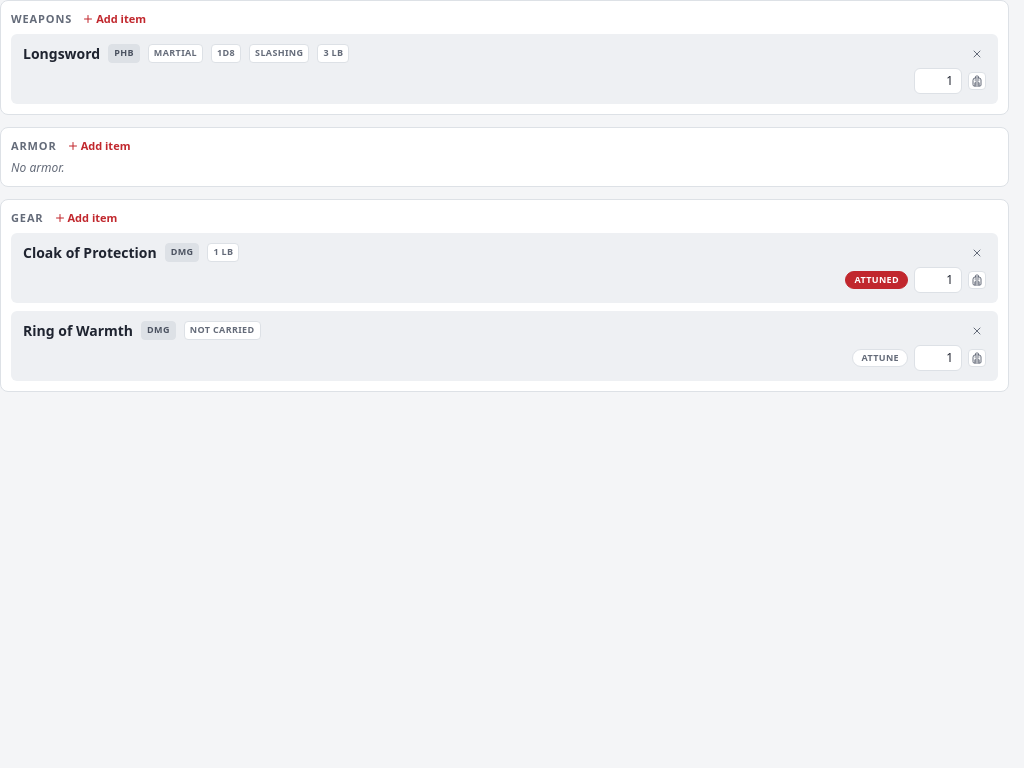
Test: ItemList › offers no Add anyway where the server refuses the override too
Check: the button "Longsword" is shown, box [23,44,100,64]
Click the button with aria-label "Add item to Weapons" at (114, 19), box [78,7,150,32]
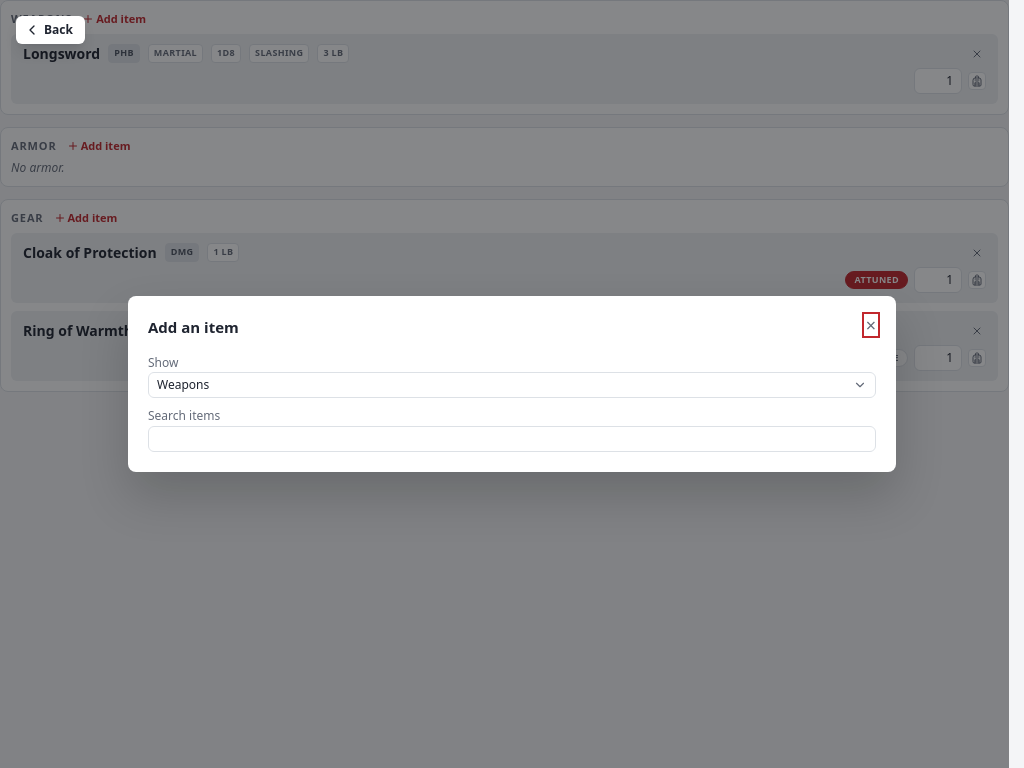
Type "+1" into the dropdown labelled "Search items" at (512, 439), box [148,426,876,452]
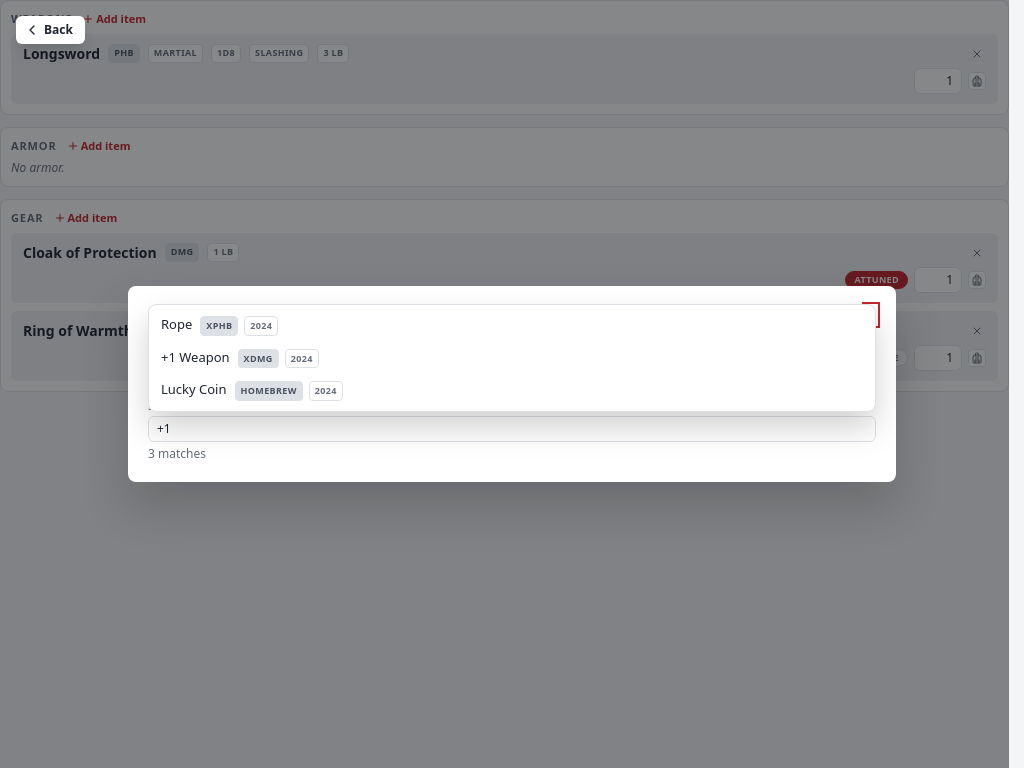
Click the option "+1 Weapon XDMG 2024" at (240, 358), box [161,348,319,368]
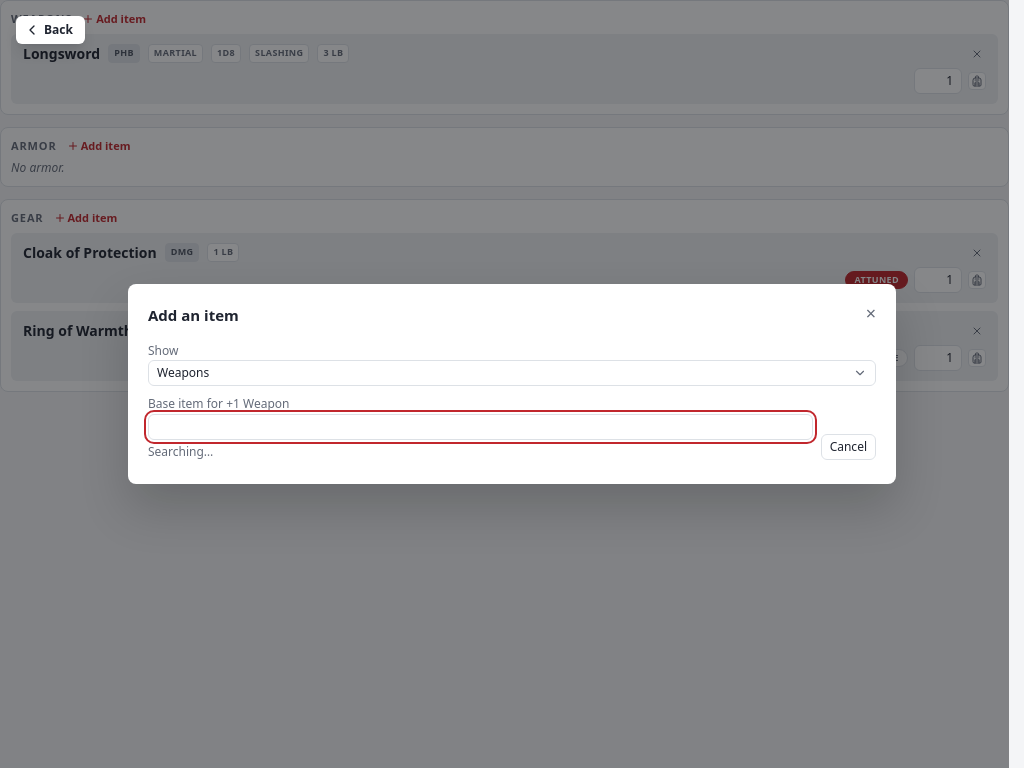
Type "dag" into the dropdown labelled "Base item for +1 Weapon" at (480, 427), box [148,414,813,440]
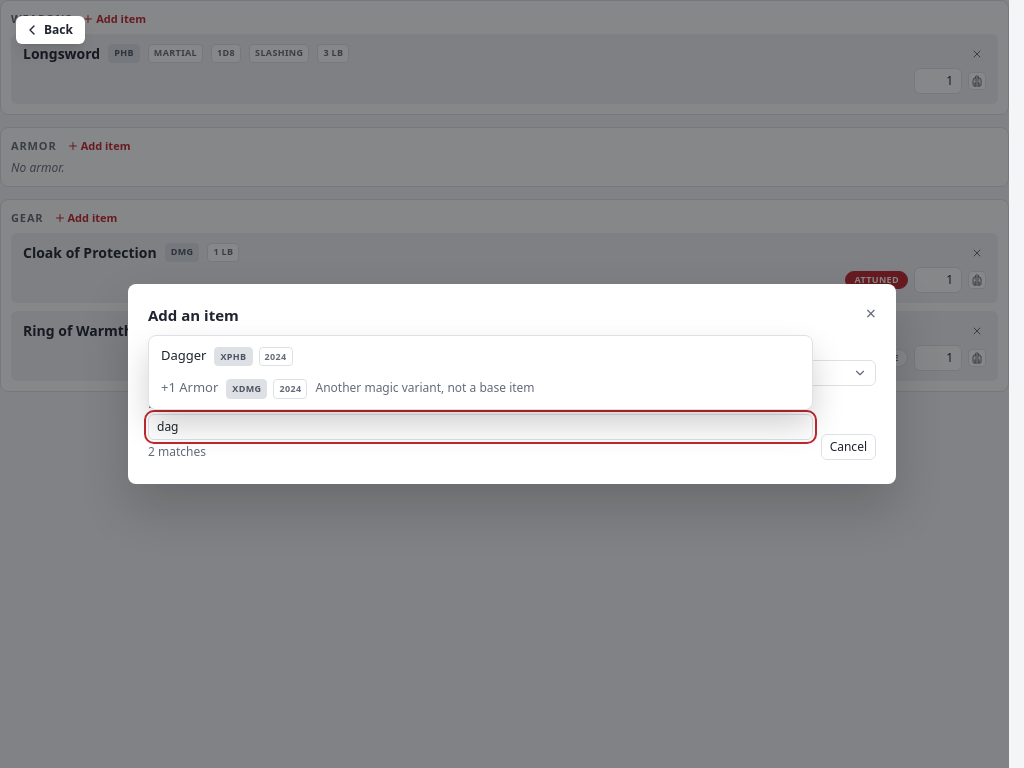
Click the option "Dagger XPHB 2024" at (227, 356), box [161,346,293,366]
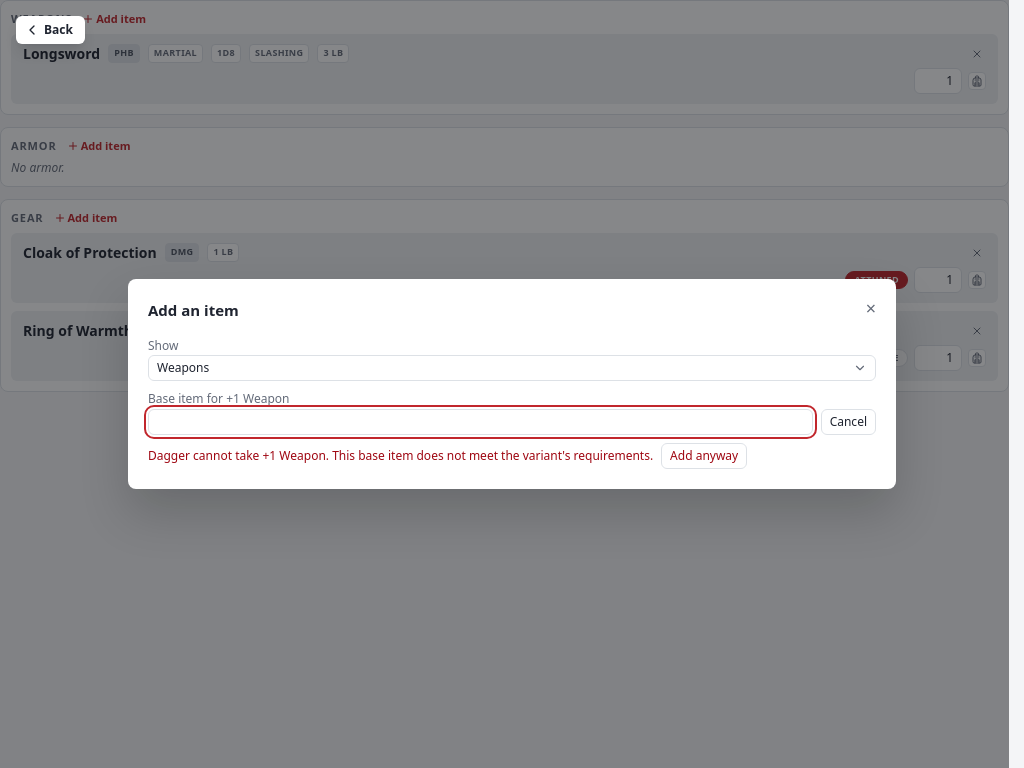
Click the button "Add anyway" at (704, 456), box [661,443,747,469]
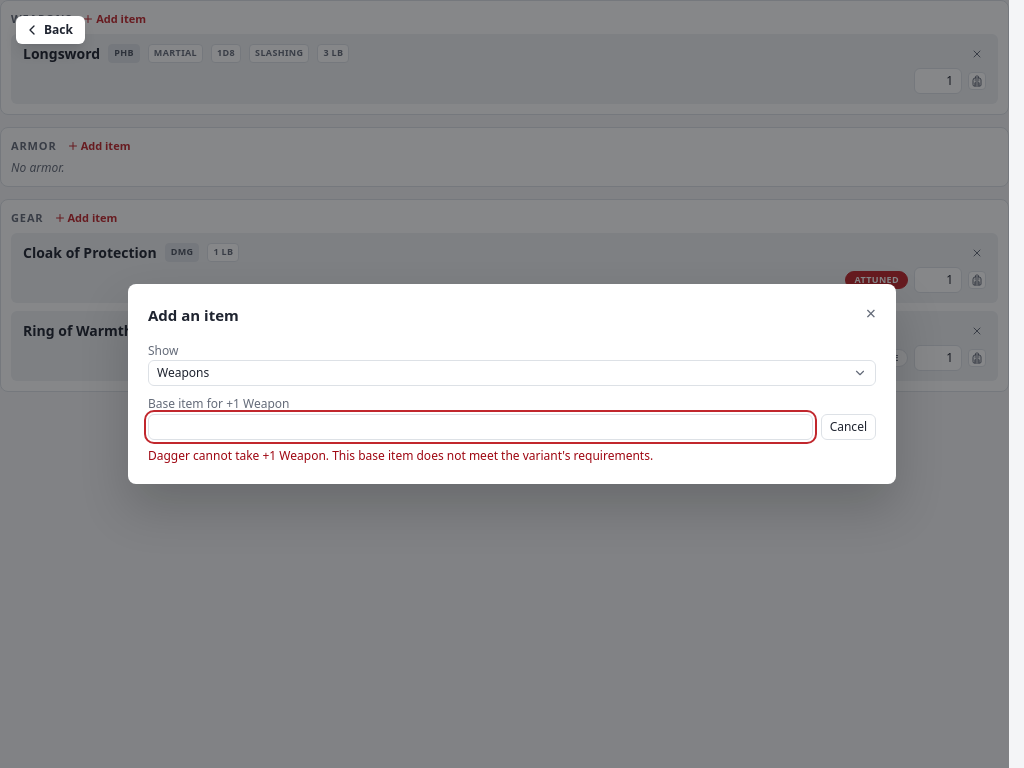
Check: the message shows "cannot take +1 Weapon", box [148,447,653,464]
Check: the button "Add anyway" is gone
